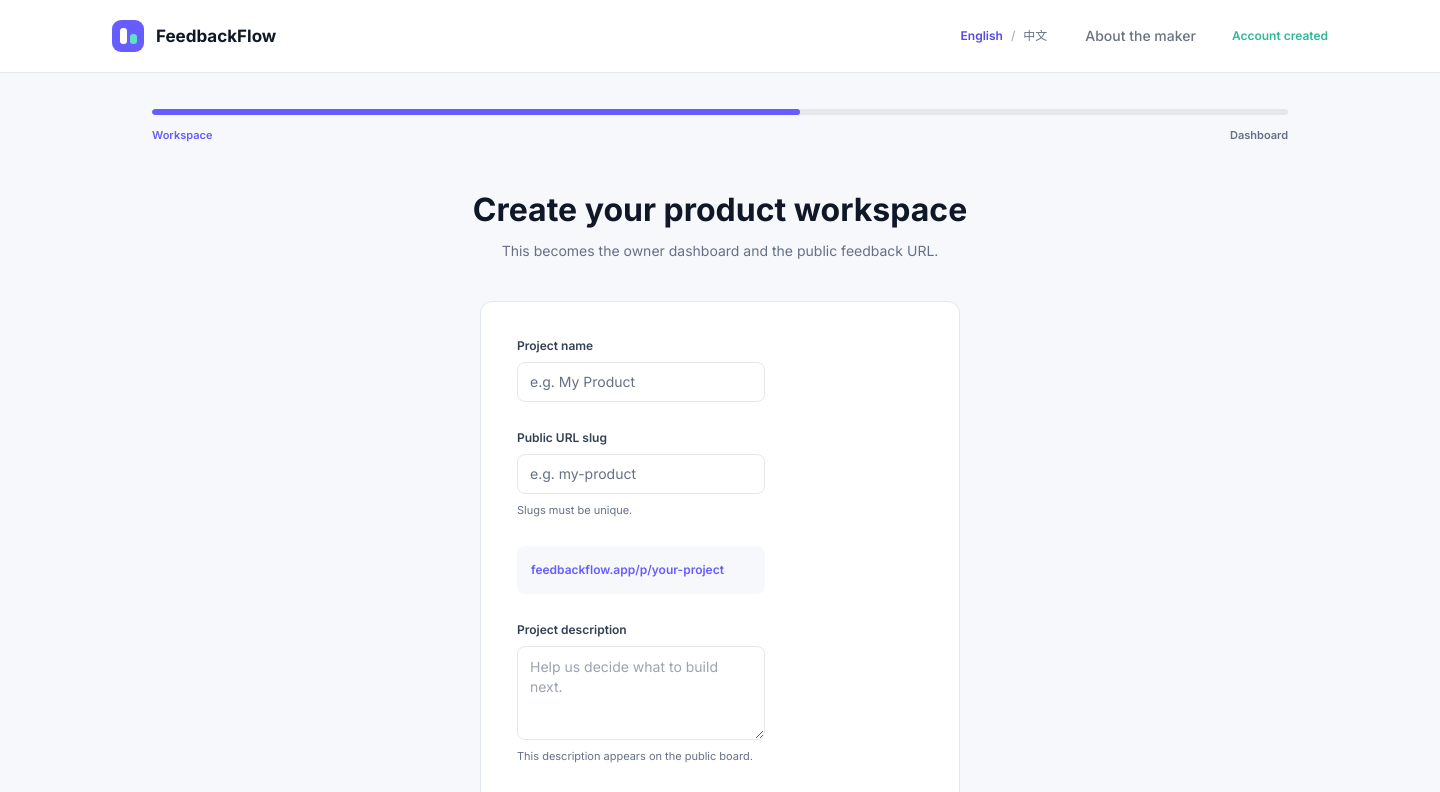
OnboardingPage › renders the Figma workspace form and derives the slug from its name
This screenshot has width=1440, height=792.
Expected: the heading "Create your product workspace" is shown, [473,188,967,232]
Expected: the text "Account created" is shown, [1232,28,1328,44]
Type "Acme Studio" into the field labelled "Project name" at (641, 382), box [517,362,765,402]
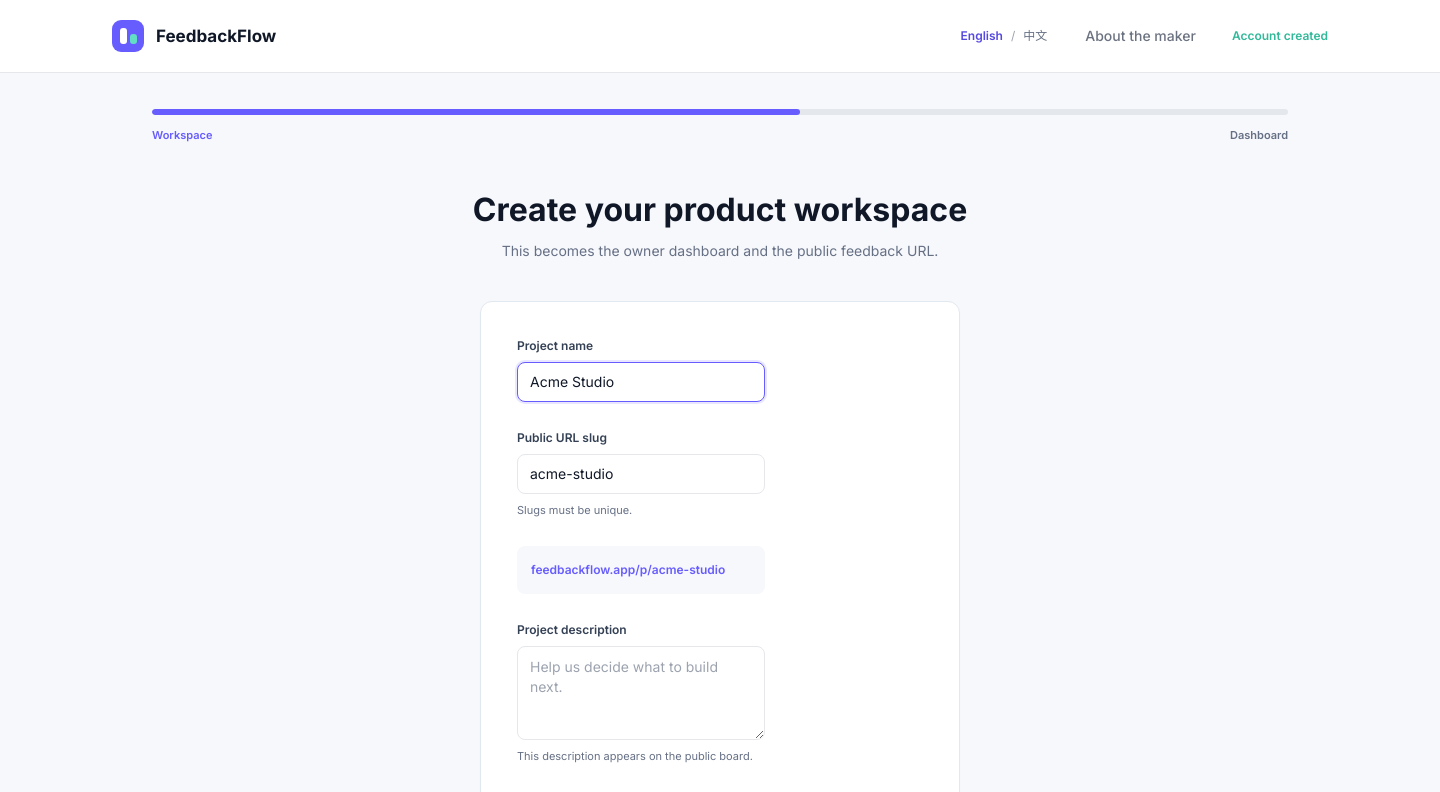
Result: the field labelled "Public URL slug" holds "acme-studio" at [517,454,765,494]
Result: the text named "Public feedback URL preview" reads "feedbackflow.app/p/acme-studio" at [517,546,765,594]
